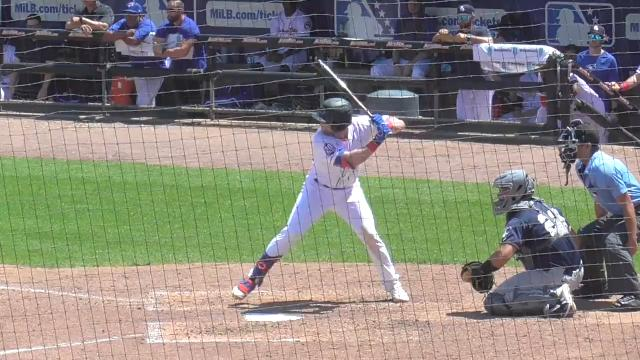bat: (314, 58, 372, 116)
